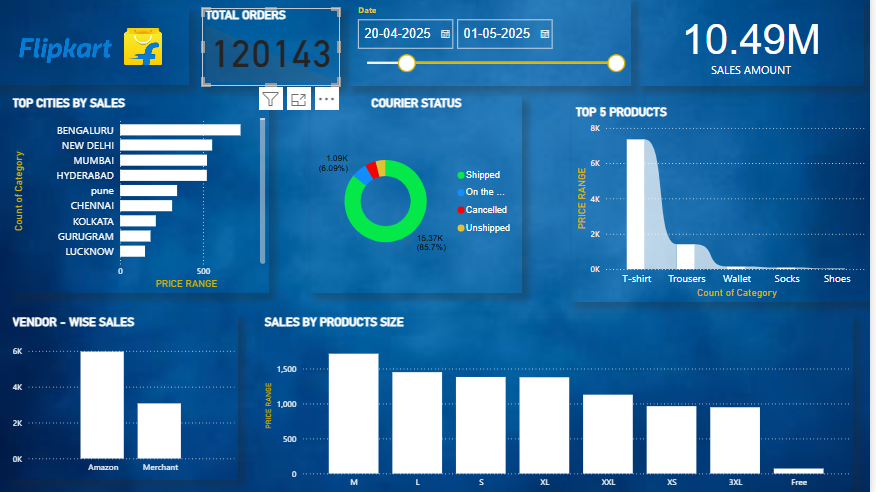

The page's visual inventory and layout, read from the dashboard file:
{"tool":"powerbi","page":{"name":"Page 1","canvas":[1280,720],"ordinal":0},"visuals":[{"type":"image","box":[14.4,20.2,283.7,110.9],"z":0},{"type":"card","fields":{"Values":["Sum(Amazon Sale Report.Amount)"]},"box":[944.6,8.6,325.4,123.8],"z":1000},{"type":"slicer","fields":{"Values":["Amazon Sale Report.Date"]},"box":[515.5,8.6,406.1,123.8],"z":2000},{"type":"ribbonChart","title":"TOP 5 PRODUCTS","fields":{"Category":["Amazon Sale Report.Category"],"Y":["CountNonNull(Amazon Sale Report.Category)"]},"box":[850,160,430,283.3],"z":3000},{"type":"donutChart","title":"COURIER STATUS","fields":{"Category":["Amazon Sale Report.Courier Status"],"Y":["CountNonNull(Amazon Sale Report.Courier Status)"]},"box":[473.8,146.9,303.8,283.7],"z":4000},{"type":"clusteredBarChart","title":"TOP CITIES BY SALES","fields":{"Category":["Amazon Sale Report.ship-city"],"Y":["CountNonNull(Amazon Sale Report.ship-city)"]},"box":[38.9,146.9,374.4,283.7],"z":5000},{"type":"lineClusteredColumnComboChart","title":"SALES BY PRODUCTS SIZE","fields":{"Category":["Amazon Sale Report.Size"],"Y":["CountNonNull(Amazon Sale Report.Size)"]},"box":[401.7,461.7,853.3,258.3],"z":6000},{"type":"clusteredColumnChart","title":"VENDOR - WISE SALES","fields":{"Category":["Amazon Sale Report.Fulfilment"],"Y":["CountNonNull(Amazon Sale Report.Fulfilment)"]},"box":[38.3,461.7,330,236.7],"z":7000},{"type":"kpi","title":"TOTAL ORDERS","fields":{"TrendLine":["Amazon Sale Report.index"],"Indicator":["Max(Amazon Sale Report.index)"]},"box":[316.8,20.2,198.7,112.3],"z":8000}]}

Visuals, with their boxes in screenshot pixels (x1, y1, x2, y2), scaled from the page's 1280x720 canvas onto the 876x492 screenshot:
image: locate(10, 14, 204, 90)
card - Sum(Amazon Sale Report.Amount): locate(646, 6, 869, 90)
slicer - Amazon Sale Report.Date: locate(353, 6, 631, 90)
"TOP 5 PRODUCTS" ribbonChart: locate(582, 109, 875, 303)
"COURIER STATUS" donutChart: locate(324, 100, 532, 294)
"TOP CITIES BY SALES" clusteredBarChart: locate(27, 100, 283, 294)
"SALES BY PRODUCTS SIZE" lineClusteredColumnComboChart: locate(275, 315, 859, 491)
"VENDOR - WISE SALES" clusteredColumnChart: locate(26, 315, 252, 477)
"TOTAL ORDERS" kpi: locate(217, 14, 353, 91)
